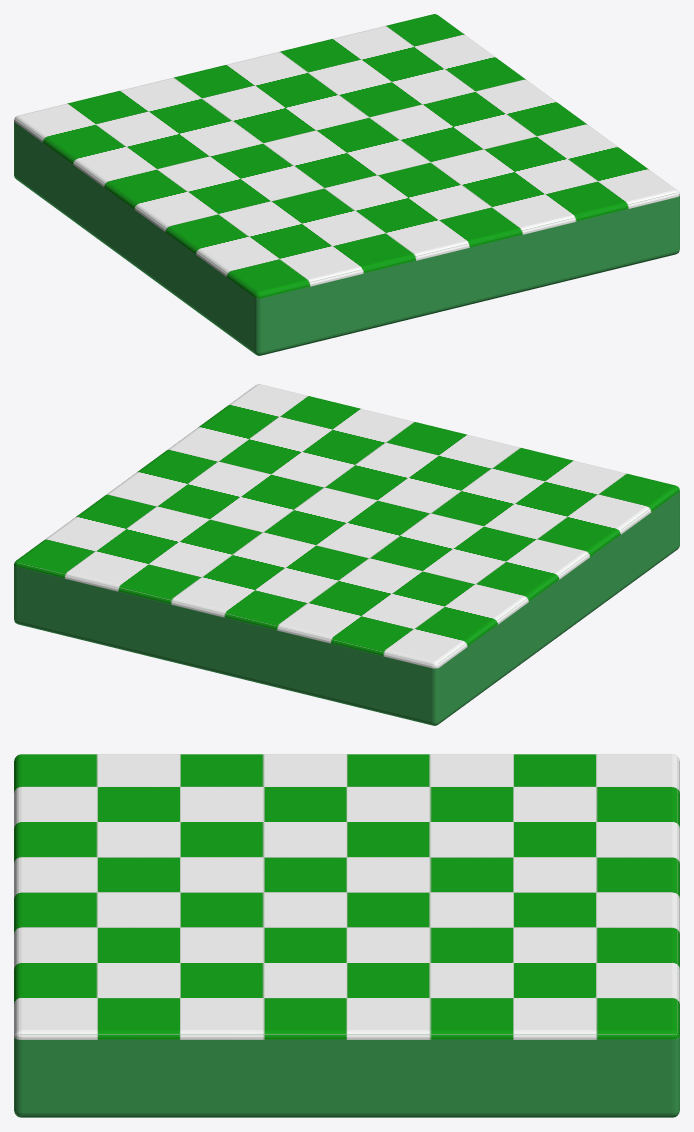
File: car_ground.glb
3 views of the same model, one above another, from view 1: azimuth 30°, elevation 25°; view 2: azimuth 150°, elevation 25°; view 3: azimuth 270°, elevation 25° (orthographic). The views are drawn at different scales.
Visible parts, largest first — view 1: Plane; view 2: Plane; view 3: Plane.
Part boxes in pixels (left/top/right/bottom): Plane: left=14, top=14, right=679, bottom=355; Plane: left=14, top=384, right=679, bottom=725; Plane: left=14, top=754, right=679, bottom=1117.
Size of the model in its own units: 6 by 0.8656 by 6.
Materials: 2 (2 with a texture image).
